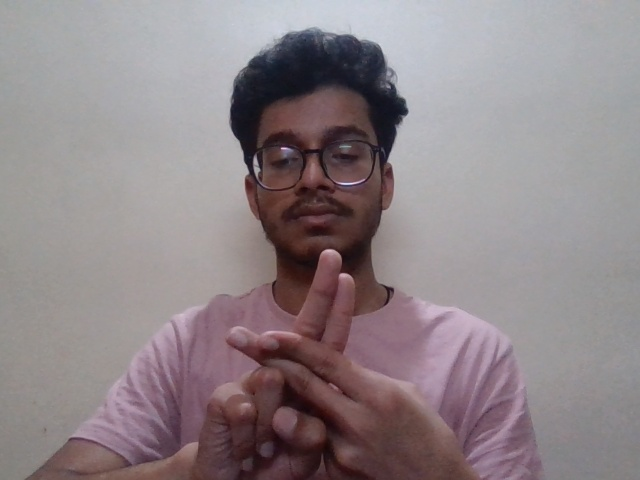disabled: (168, 244, 475, 474)
